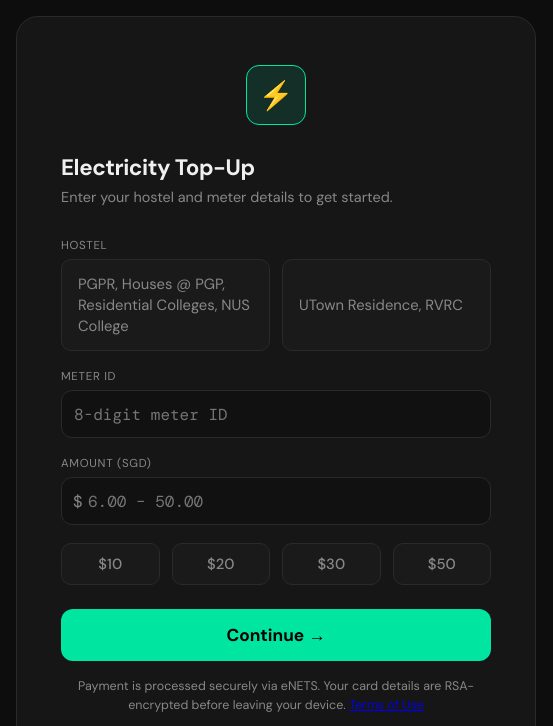
it: HomePage › amount presets › clicking $20 preset fills the amount input
Step 1. Click the button "$20" → (221, 564), box [172,543,270,585]
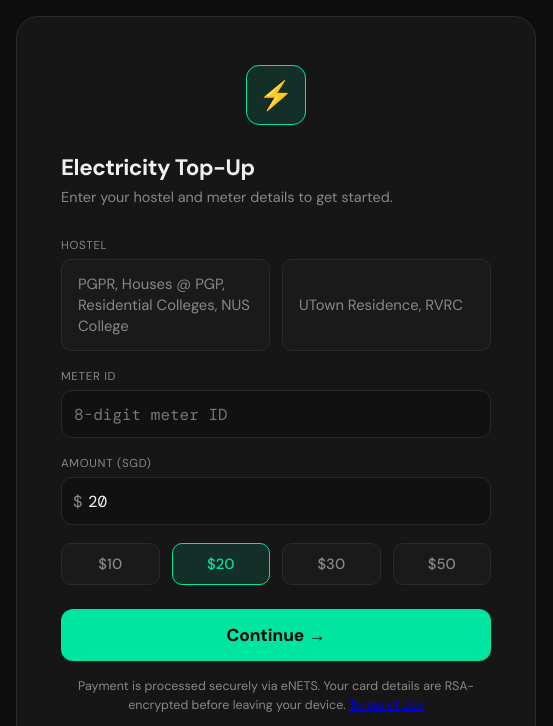
Now the number field with placeholder "6.00 – 50.00" holds "20", box [61,477,491,525]
